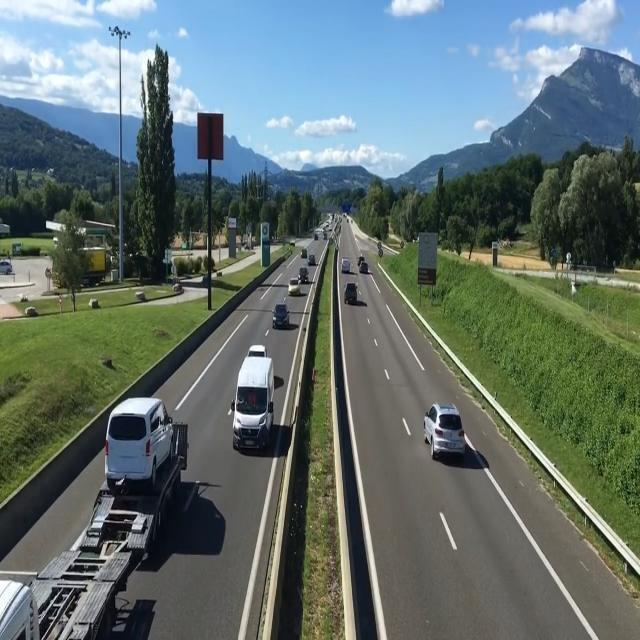Car: (423, 403, 466, 460), (272, 303, 288, 329), (287, 277, 303, 297), (344, 282, 358, 302), (298, 267, 311, 284), (360, 262, 369, 274), (307, 254, 316, 266), (300, 248, 308, 258)
Truck: (0, 391, 190, 640)
Van: (102, 395, 173, 487), (228, 353, 278, 450), (341, 258, 351, 274)
